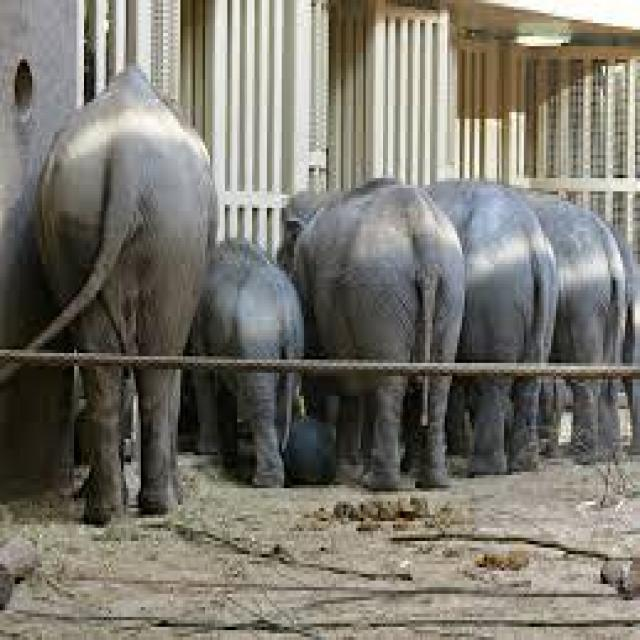Elephant: (35, 59, 205, 515), (430, 172, 637, 465), (274, 175, 462, 485), (195, 228, 309, 482)
